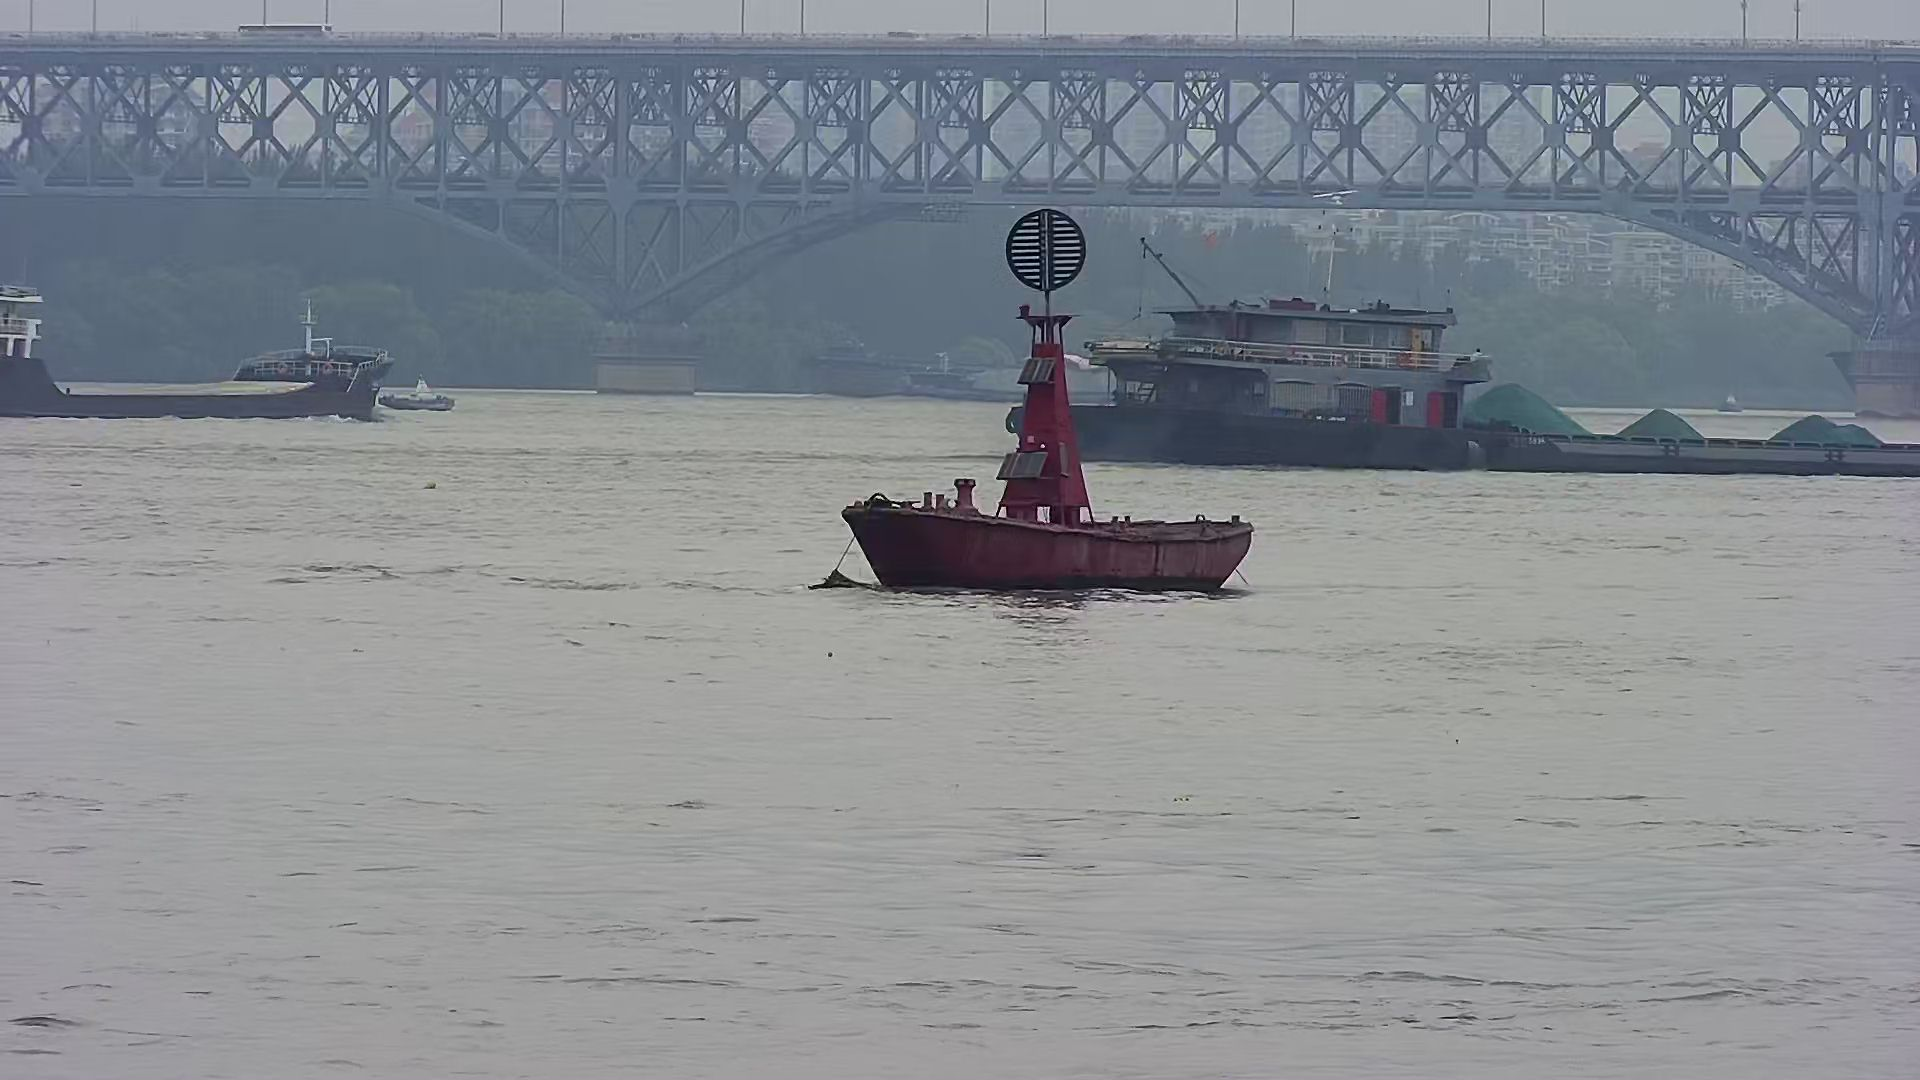boat: (820, 200, 1265, 593), (377, 380, 464, 415), (1709, 380, 1756, 419)
bridge: (5, 18, 1920, 411)
ship: (996, 183, 1920, 469), (1, 276, 396, 429)
